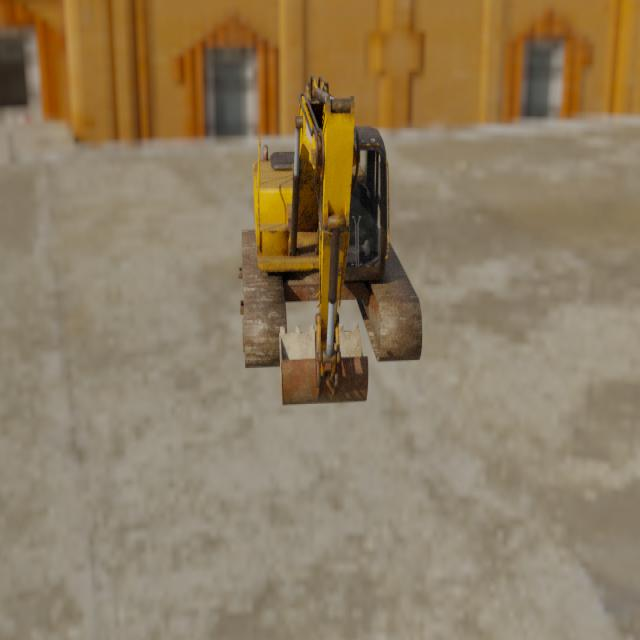excavator: (237, 73, 422, 406)
